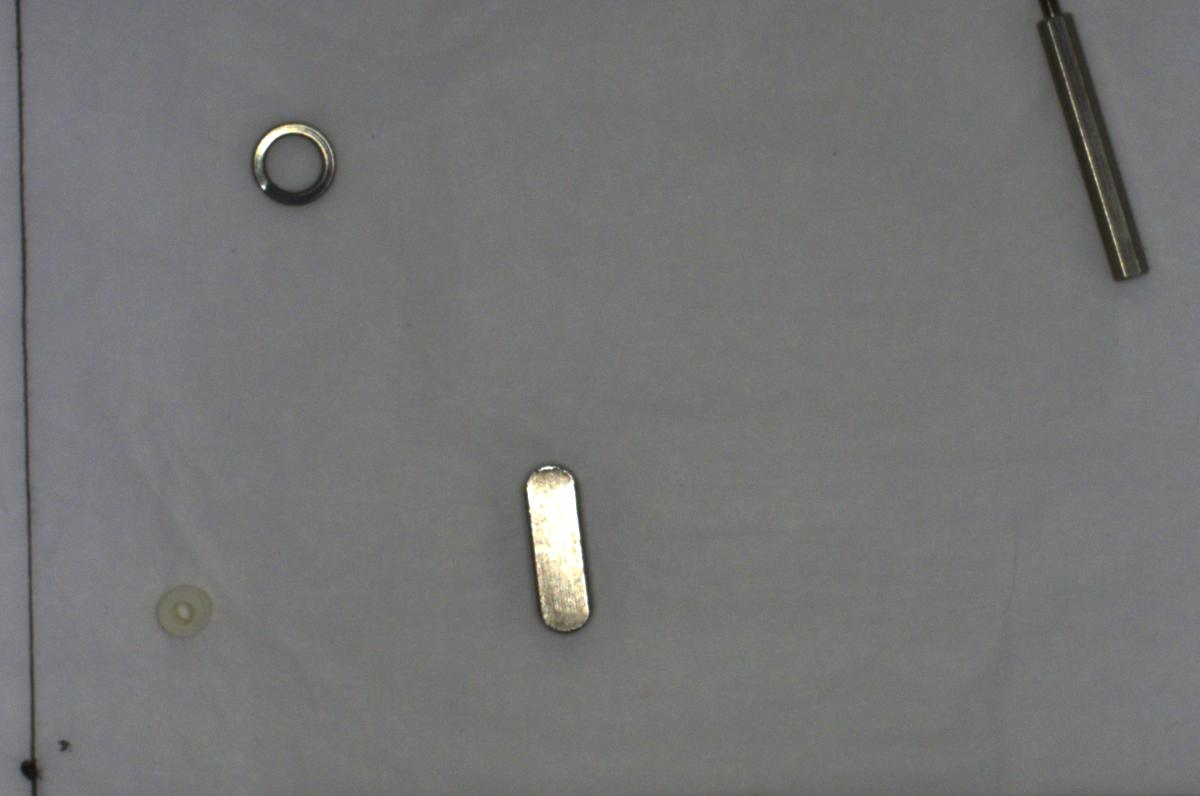Hexagonal steel column: (1027, 0, 1158, 283)
Keybar: (507, 450, 602, 645)
Plastic cushion pillar: (147, 575, 215, 643)
Spring washer: (245, 115, 340, 210)
